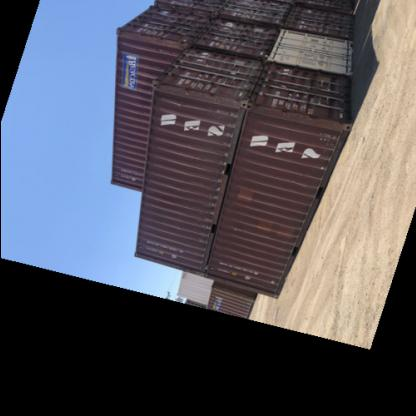Damage: (186, 92, 236, 110)
